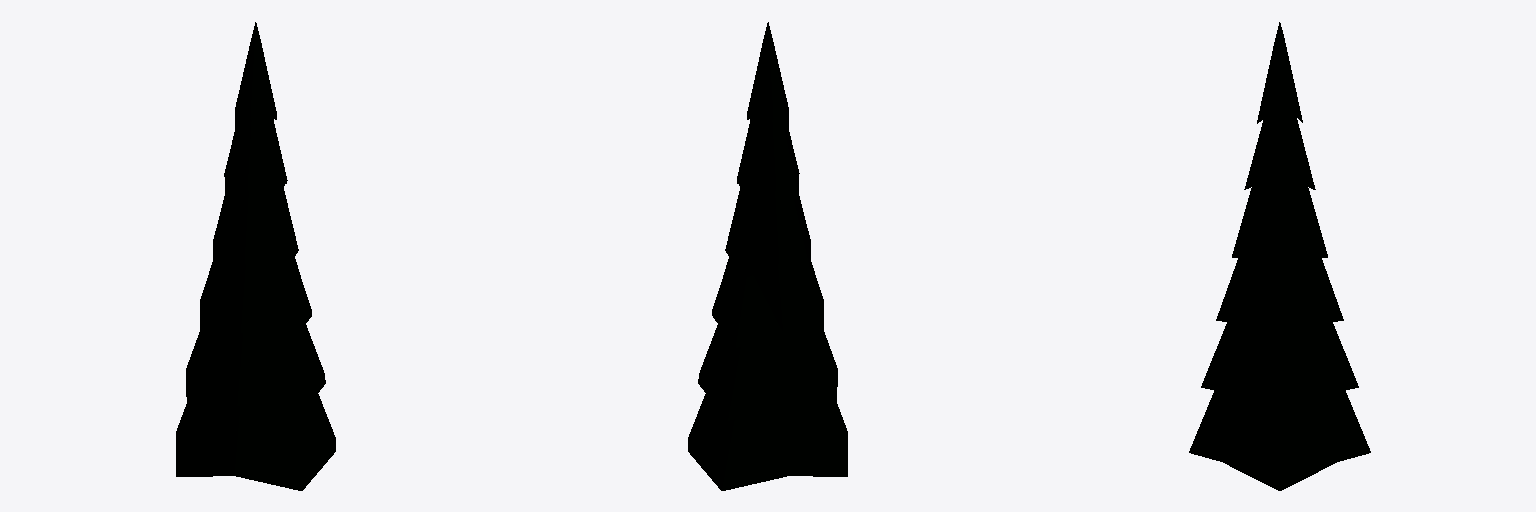
URDF robot description (tree1):
<?xml version="1.0"?>
  <robot name="tree1">

<link name="base_link">
     <visual>
       <!-- <origin xyz="-4 -3 0"/> -->
        <geometry>
        <mesh filename="package://world_model_description/meshes/tanne12.dae"/>
        </geometry>
     </visual> 
   
     <collision>
       <geometry>
	 <mesh filename="package://world_model_description/meshes/tanne12.dae"/>
       </geometry>
     </collision>

<!-- <collision>-->
      <!--<origin xyz="-4 -3 0"/> -->     
<!--       <geometry>
       <box size="1 1 2"/>
       </geometry>
 </collision>
<collision>
        <origin xyz="0 0 2.5"/>      
       <geometry>    
        <sphere radius="2"/>
       </geometry>
</collision>-->
 <inertial>
       <mass value="1" />
	<inertia ixx="1.0" ixy="0.0" ixz="0.0" iyy="1.0" iyz="0.0" izz="1.0" />
       </inertial>
</link>

   <gazebo>
     <static>true</static>
   </gazebo>

</robot>

--- What the picture shows (computed from the rendered views, not written in the file) ---
3 views of the same robot in one strip: view 1: azimuth 30°, elevation 25°; view 2: azimuth 150°, elevation 25°; view 3: azimuth 270°, elevation 25° (orthographic).
Model tree1 with 1 links and 0 joints (none), rooted at base_link, posed all joints at 0.
Links seen in each view (by area): view 1: base_link; view 2: base_link; view 3: base_link.
Boxes of the visible links, x1,y1,x2,y2 form: base_link: (176,22,335,490); base_link: (688,22,847,490); base_link: (1189,22,1370,490).
Bounding box of the posed robot: 3.8 × 3.8 × 10.17 m (x, y, z).
Meshes: 1 distinct files referenced, 1 mesh visuals loaded (1 Collada DAE).
